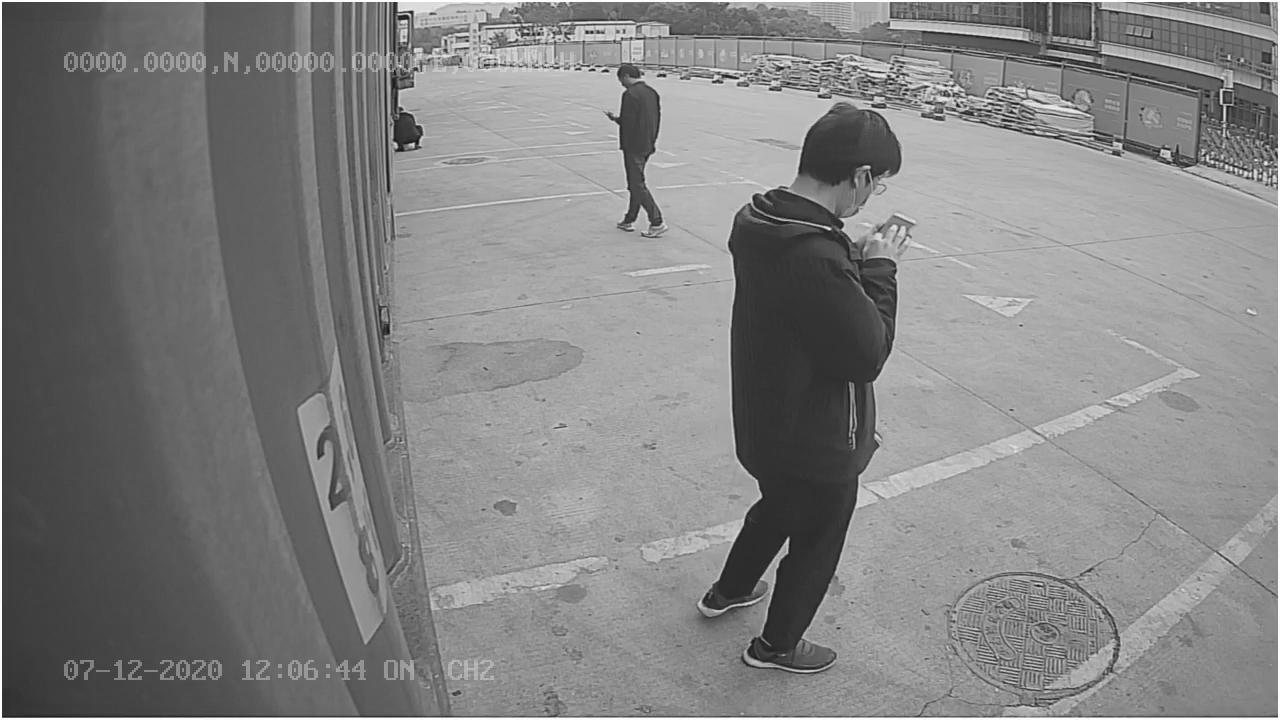person: (696, 94, 914, 673)
